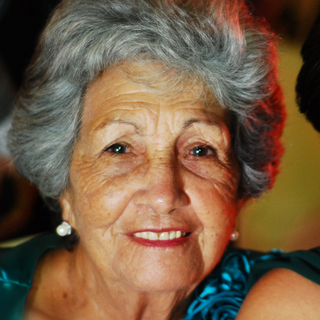eye: (97, 138, 140, 163), (181, 139, 220, 164)
